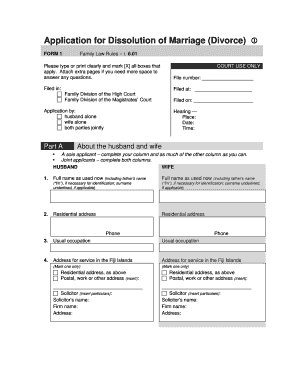checkbox: (56, 90, 63, 96), (55, 97, 62, 103), (55, 114, 62, 120), (55, 119, 62, 125), (55, 125, 62, 131), (52, 270, 59, 276), (52, 276, 59, 282), (52, 291, 59, 297), (160, 291, 167, 297), (160, 276, 167, 282), (160, 270, 167, 276)
textbox: (158, 216, 266, 238), (48, 216, 154, 238), (49, 188, 155, 205), (159, 188, 265, 205), (158, 241, 266, 254), (49, 242, 154, 254)
textline: (192, 84, 252, 93), (192, 95, 252, 104), (201, 74, 254, 82)
